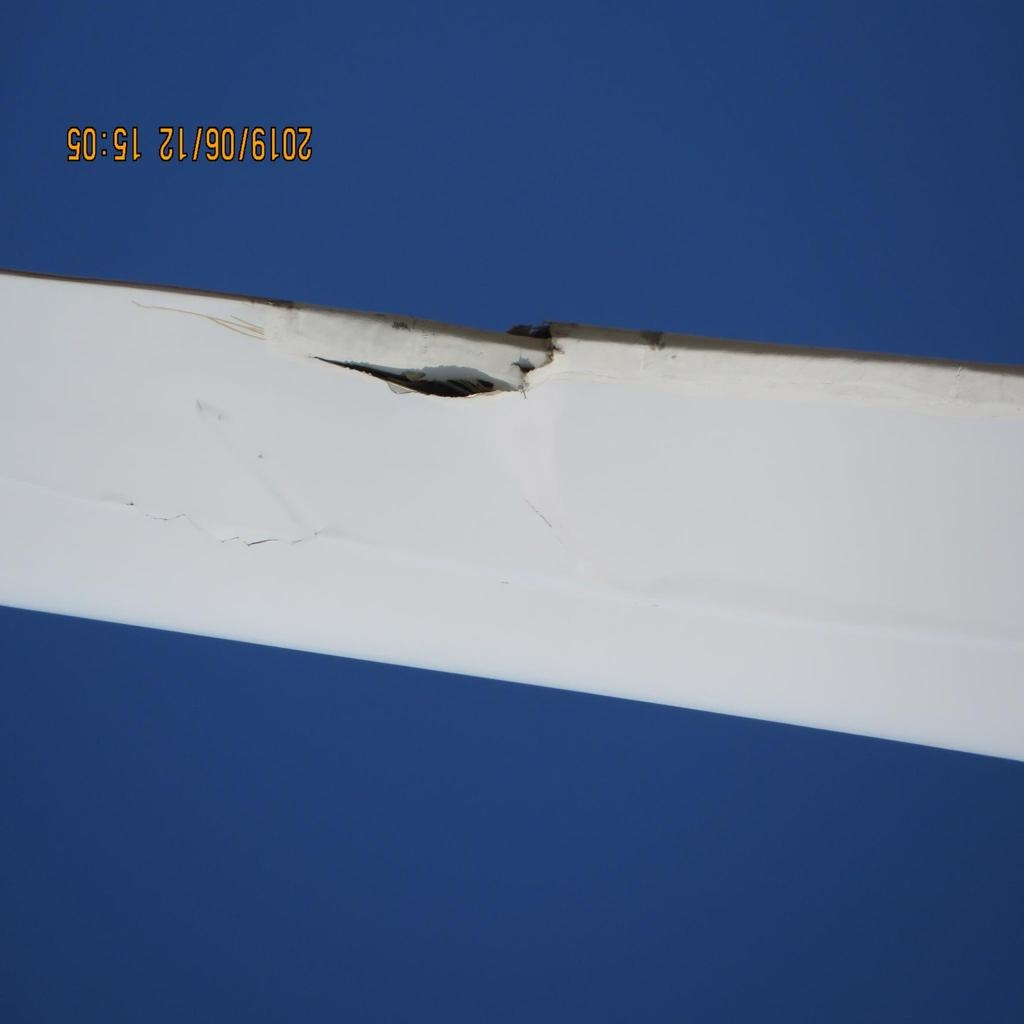craze: (295, 305, 584, 406)
